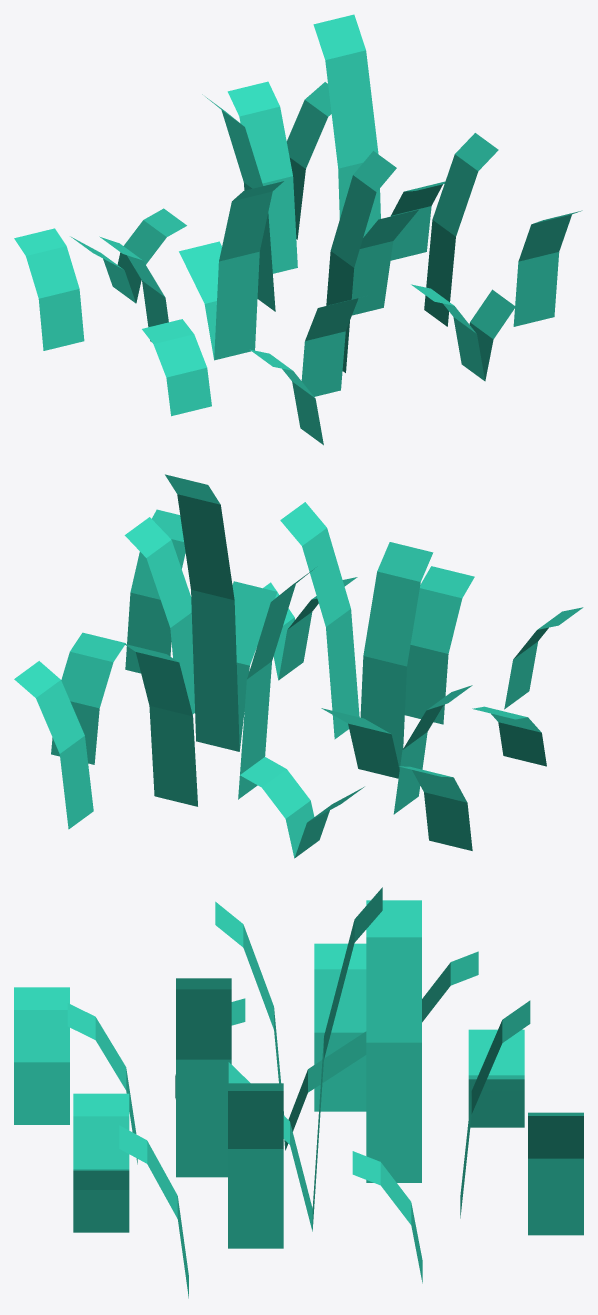
File: d_kenney_herbes_hautes.glb
3 views of the same model, one above another, from view 1: azimuth 30°, elevation 25°; view 2: azimuth 150°, elevation 25°; view 3: azimuth 270°, elevation 25° (orthographic). The views are drawn at different scales.
Parts seen in each view (by area): view 1: d_kenney_herbes_hautes; view 2: d_kenney_herbes_hautes; view 3: d_kenney_herbes_hautes.
Part boxes in pixels (box(x1,y1,x2,y2)): d_kenney_herbes_hautes: box(14, 14, 582, 445); d_kenney_herbes_hautes: box(14, 474, 583, 858); d_kenney_herbes_hautes: box(14, 887, 583, 1298).
Bounding box in the file's own units: 0.409 × 0.254 × 0.4079.
1 material, 1 textured.
